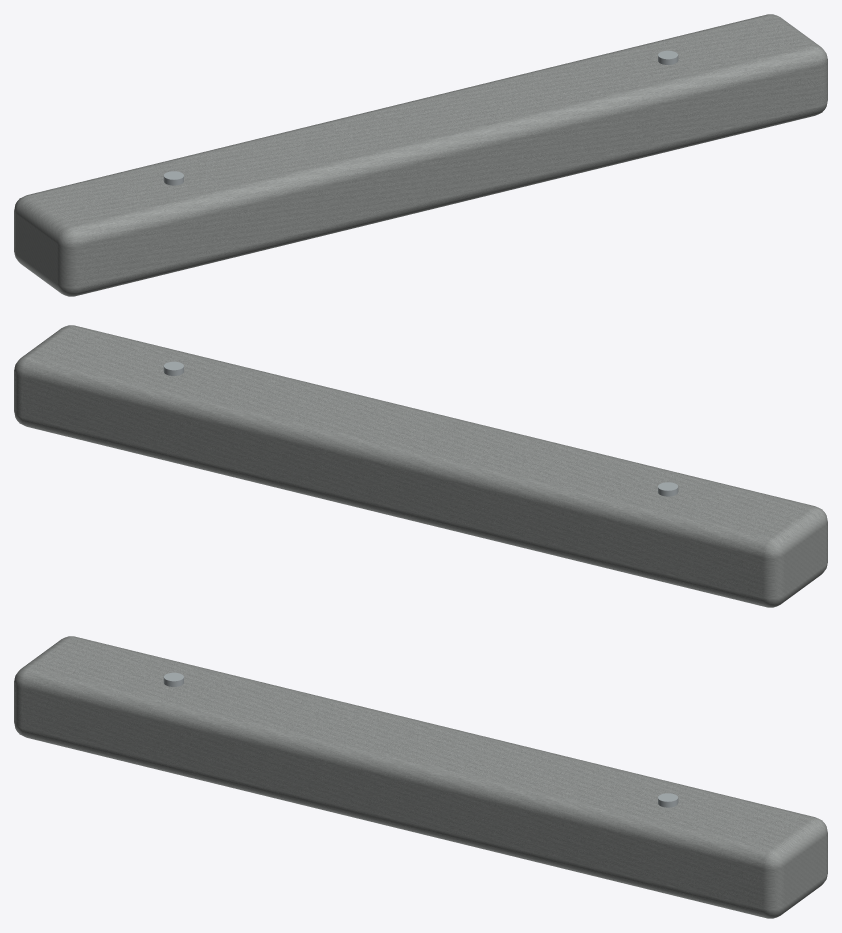
File: liminal-spaces-kit-wheel-stop-cd1b8742__25307.glb
The picture shows the model from 3 angles, top to bottom: view 1: azimuth 30°, elevation 25°; view 2: azimuth 150°, elevation 25°; view 3: azimuth 330°, elevation 25°; orthographic projection.
Parts seen in each view (by area): view 1: wheel-stop; view 2: wheel-stop; view 3: wheel-stop.
Part boxes in pixels (box(x1,y1,x2,y2)): wheel-stop: box(14, 14, 827, 296); wheel-stop: box(14, 325, 827, 607); wheel-stop: box(14, 636, 827, 918).
Size of the model in its own units: 1.4 by 0.13 by 0.18.
2 materials, 1 textured.
